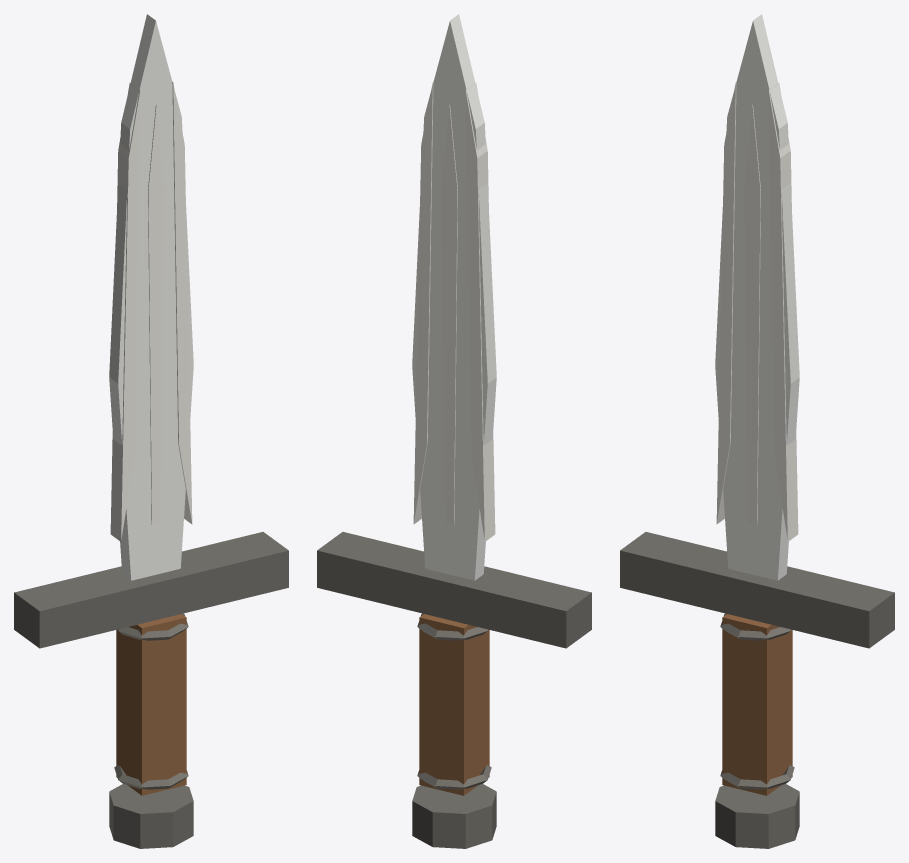
File: t8_one_handed_sword.glb
3 renders of one model, left to right at view 1: azimuth 30°, elevation 25°; view 2: azimuth 150°, elevation 25°; view 3: azimuth 330°, elevation 25°, orthographic.
Parts seen in each view (by area): view 1: Blade, Guard, Grip, LeftBladeEdge, Fuller, RightBladeEdge, Pommel, BottomGripRing, TopGripRing; view 2: Blade, Guard, Grip, LeftBladeEdge, Fuller, RightBladeEdge, Pommel, BottomGripRing, TopGripRing; view 3: Blade, Guard, Grip, RightBladeEdge, Fuller, LeftBladeEdge, Pommel, BottomGripRing, TopGripRing.
Part boxes in pixels (box(x1,y1,x2,y2)): Blade: box(109, 14, 193, 580); Guard: box(14, 532, 288, 648); Grip: box(116, 614, 186, 795); LeftBladeEdge: box(110, 83, 140, 541); Fuller: box(148, 104, 164, 524); RightBladeEdge: box(172, 82, 192, 524); Pommel: box(109, 783, 193, 848); BottomGripRing: box(114, 765, 188, 789); TopGripRing: box(118, 613, 188, 640); Blade: box(412, 14, 496, 580); Guard: box(317, 532, 591, 648); Grip: box(419, 614, 489, 795); LeftBladeEdge: box(465, 83, 495, 541); Fuller: box(441, 104, 457, 524); RightBladeEdge: box(413, 82, 433, 524); Pommel: box(412, 783, 496, 848); BottomGripRing: box(417, 765, 491, 789); TopGripRing: box(417, 613, 487, 640); Blade: box(715, 14, 799, 580); Guard: box(620, 532, 894, 648); Grip: box(722, 614, 792, 795); RightBladeEdge: box(768, 83, 798, 541); Fuller: box(744, 104, 760, 524); LeftBladeEdge: box(716, 82, 736, 524); Pommel: box(715, 783, 799, 848); BottomGripRing: box(720, 765, 794, 789); TopGripRing: box(720, 613, 790, 640).
Bounding box in the file's own units: 0.56 × 1.75 × 0.17.
